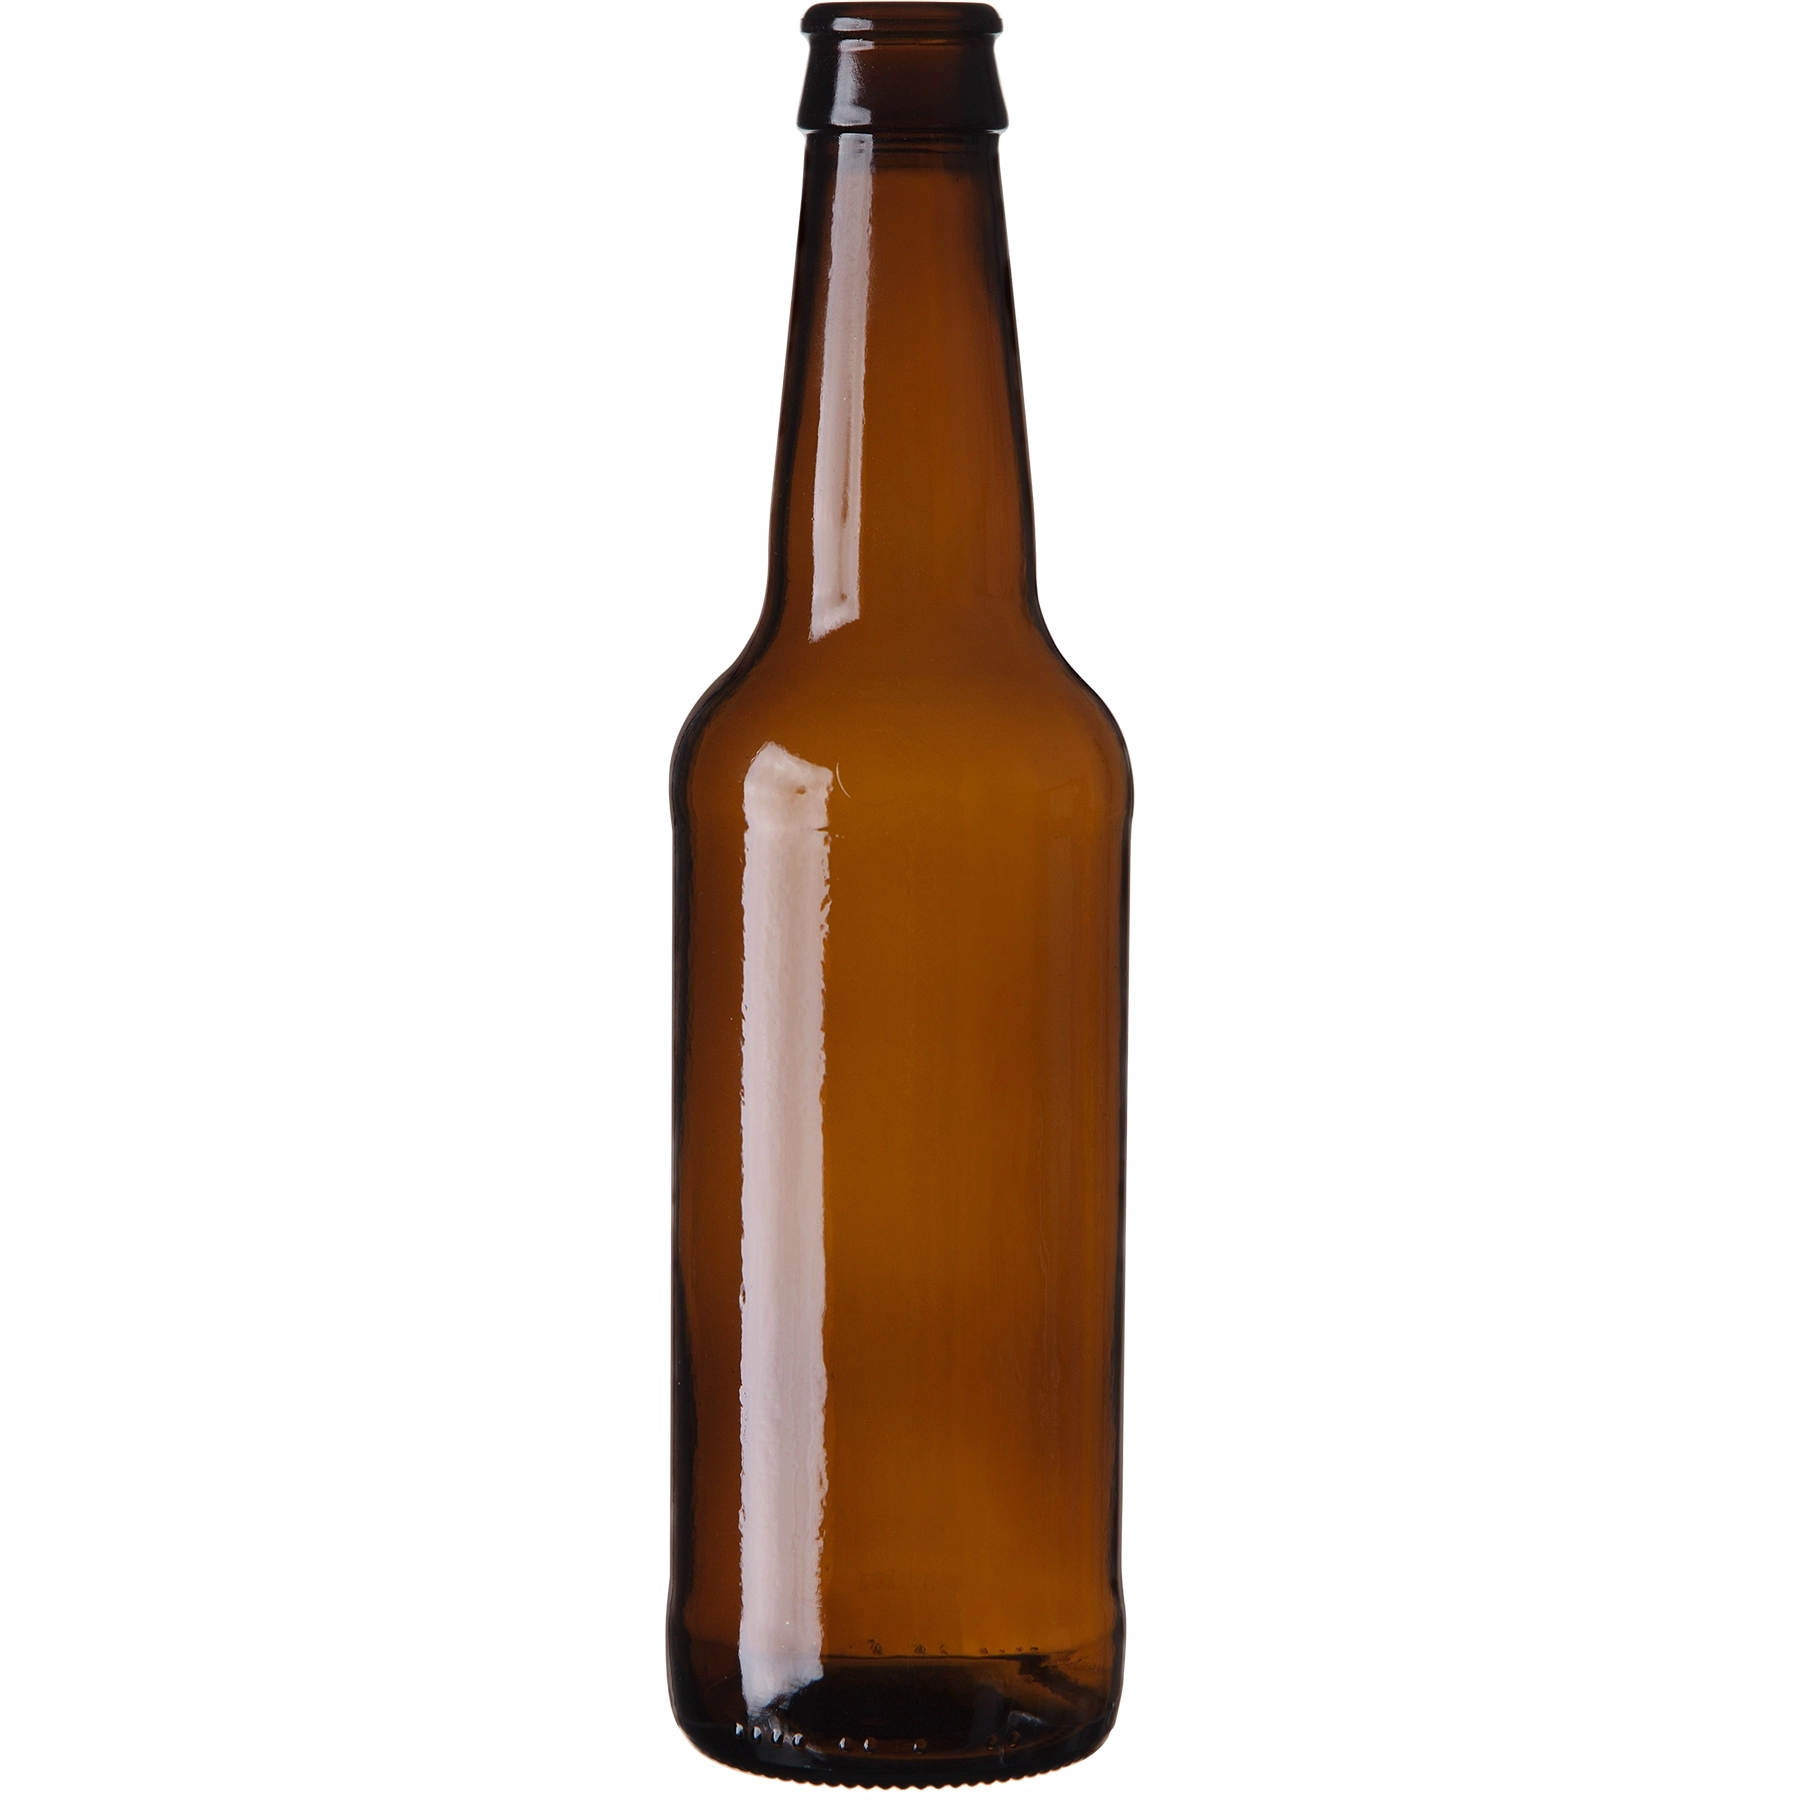glass_bottle: (646, 2, 1160, 1800)
